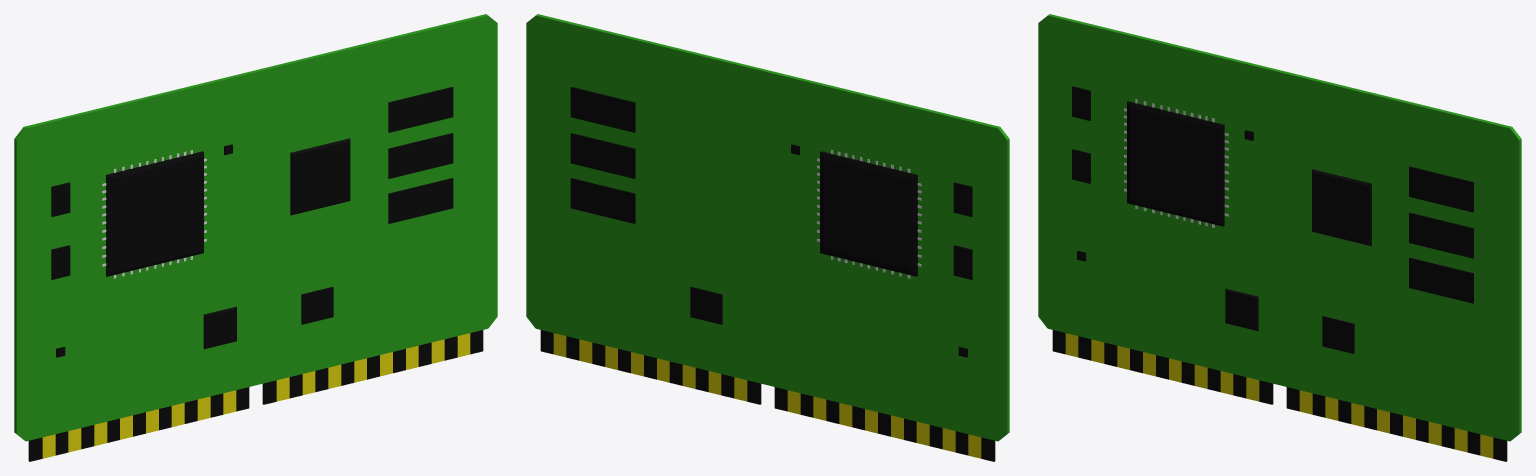
The model's file is microchip.glb.
3 views of the same model, side by side, from view 1: azimuth 30°, elevation 25°; view 2: azimuth 150°, elevation 25°; view 3: azimuth 330°, elevation 25° (orthographic).
Visible parts, largest first — view 1: Electronics Collectable; view 2: Electronics Collectable; view 3: Electronics Collectable.
Part boxes in pixels (x1,y1,x2,y2): Electronics Collectable: (14,14,497,461); Electronics Collectable: (526,14,1009,461); Electronics Collectable: (1038,14,1521,461).
Size of the model in its own units: 3.89 by 2.59 by 0.0779.
